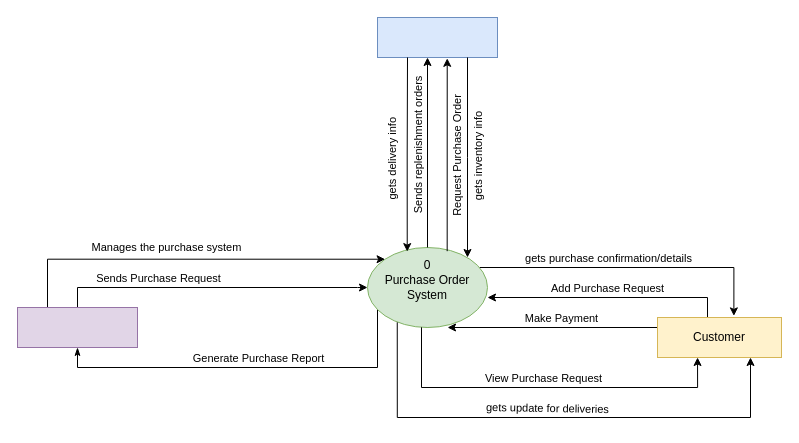
Some shapes in this 799 by 443 pixel diagram are drawn without their labels. Here are the shapes that lost their labels. From the top down, the box of each, then its label:
(376, 16, 498, 58): Suppliers
(16, 306, 138, 348): Admin
